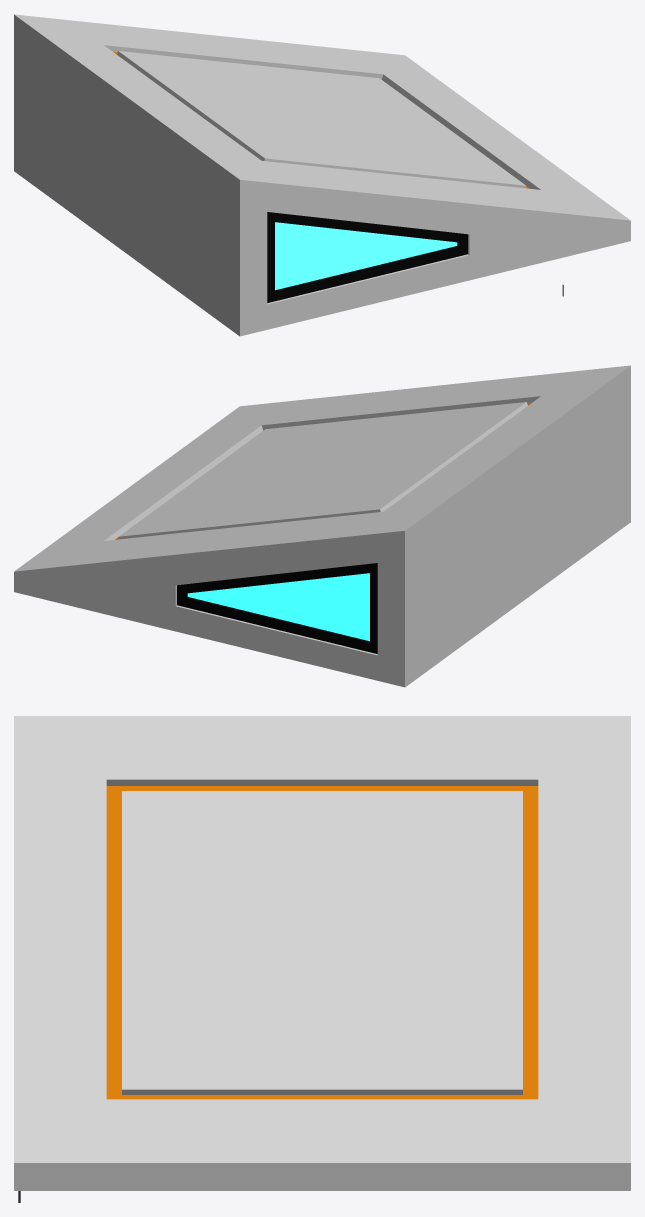
The model's file is SM_Pente_A.glb.
3 views of the same model, one above another, from view 1: azimuth 30°, elevation 25°; view 2: azimuth 150°, elevation 25°; view 3: azimuth 270°, elevation 25° (orthographic). The views are drawn at different scales.
Visible parts, largest first — view 1: SM_Pente_A; view 2: SM_Pente_A; view 3: SM_Pente_A.
Part boxes in pixels (bbox=[...]): SM_Pente_A: bbox=[14, 14, 630, 336]; SM_Pente_A: bbox=[14, 365, 630, 687]; SM_Pente_A: bbox=[14, 716, 630, 1202].
Size of the model in its own units: 4 by 1.93 by 4.
